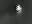person: (16, 5, 24, 19)
